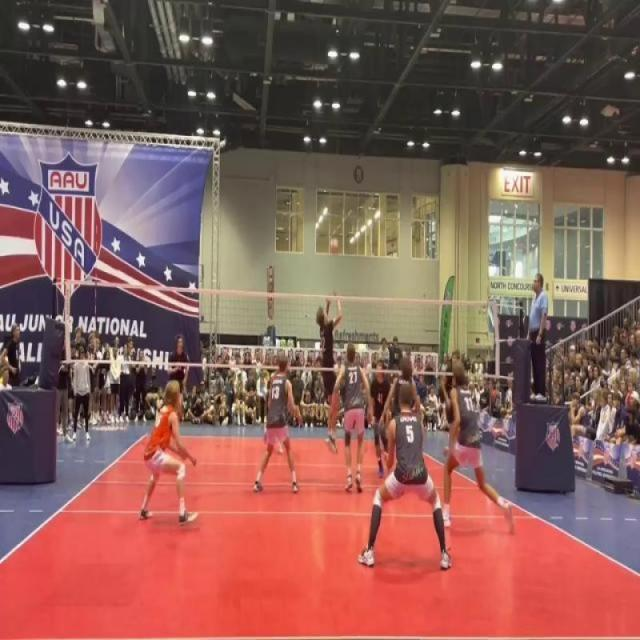volleyball: (328, 236, 340, 257)
